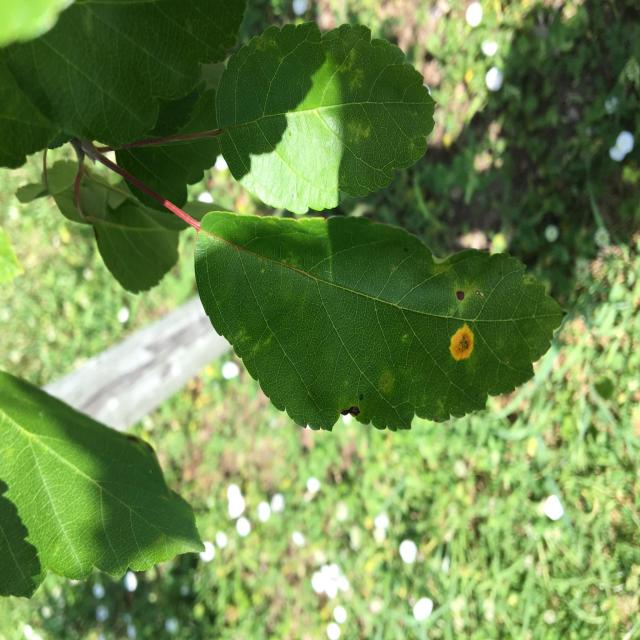Rust: (434, 321, 486, 373)
